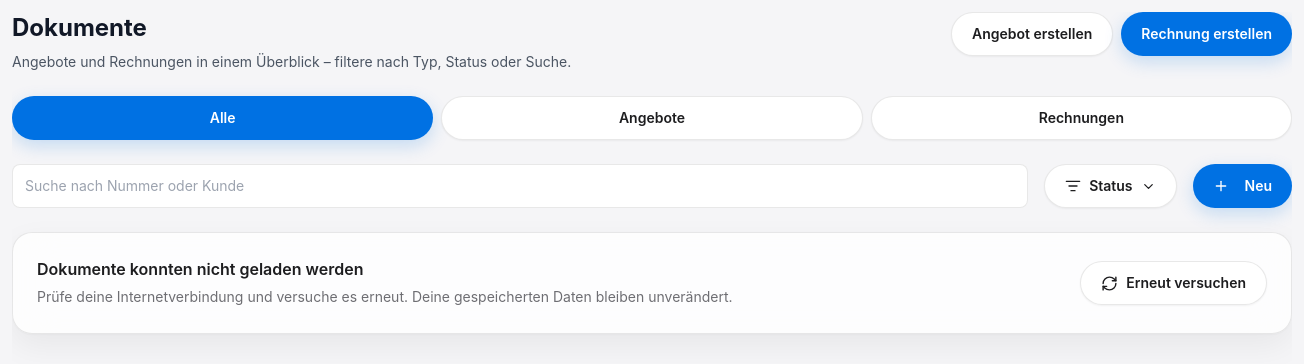
DocumentsHubPage table view › shows one retry state instead of an empty document list after a load failure
This screenshot has width=1304, height=364.
Check: the message shows "Dokumente konnten nicht geladen werden", box [37, 259, 364, 279]
Click the button "Erneut versuchen" at point(1174, 283), box [1080, 261, 1267, 305]
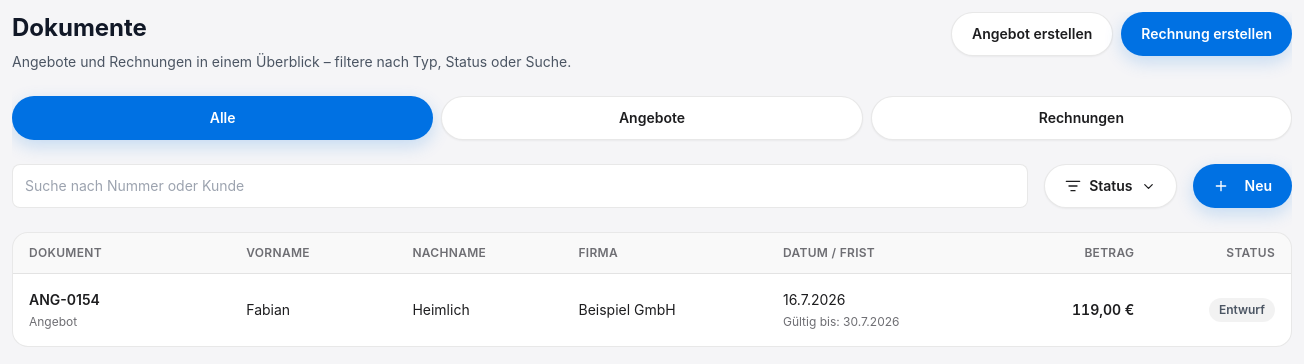
Check: the row that starts with "ANG-0154" is shown, box [13, 274, 1291, 346]
